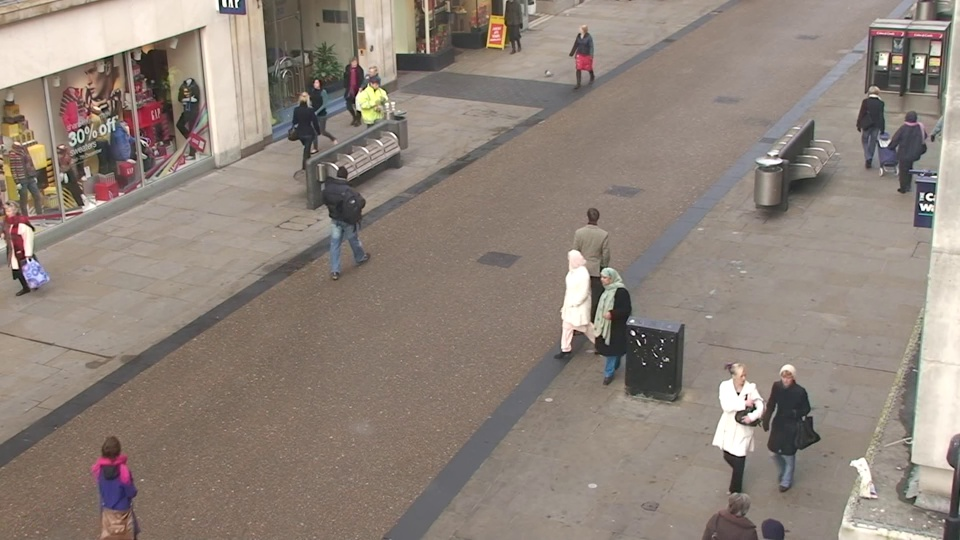pedestrian: (755, 354, 813, 513), (707, 354, 763, 512), (82, 422, 155, 540), (587, 260, 630, 395), (554, 243, 595, 373), (576, 203, 614, 323), (702, 474, 767, 540), (884, 107, 928, 204), (327, 160, 365, 268), (852, 83, 891, 173), (290, 88, 323, 174), (737, 499, 803, 540), (306, 73, 337, 155), (360, 72, 390, 155), (360, 62, 389, 142), (342, 53, 370, 130), (572, 21, 595, 91)
